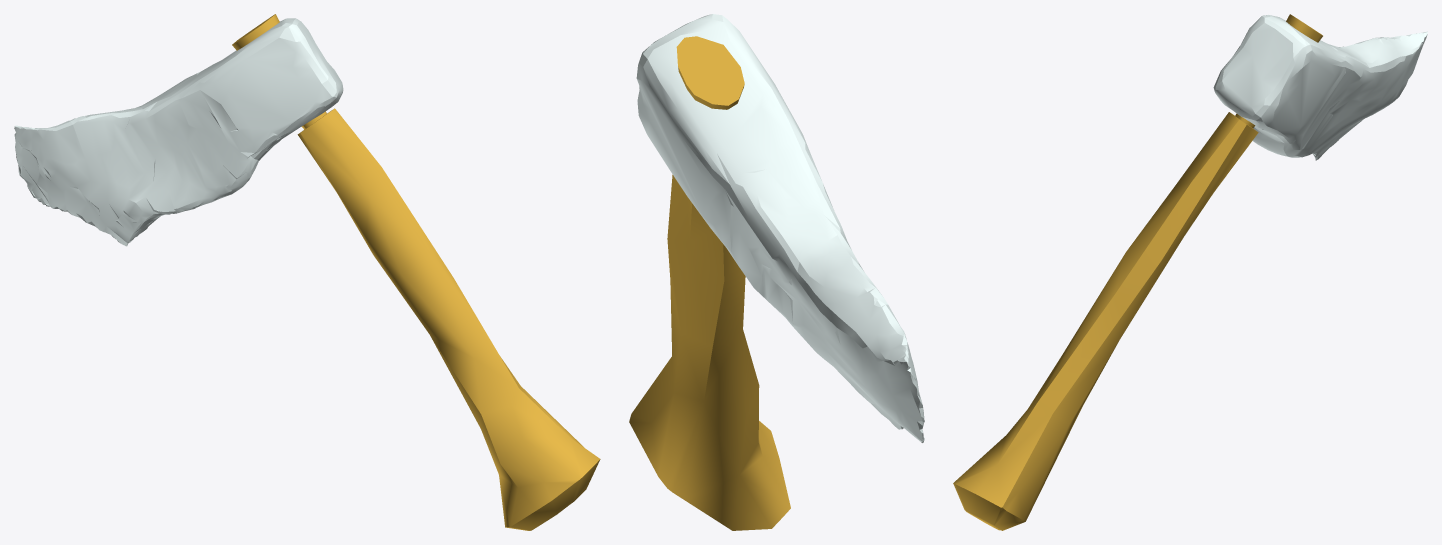
File: axe-iron-69.glb
3 views of the same model, side by side, from view 1: azimuth 30°, elevation 25°; view 2: azimuth 150°, elevation 25°; view 3: azimuth 270°, elevation 25° (orthographic). The views are drawn at different scales.
Visible parts, largest first — view 1: iron-axe-head, iron-axe; view 2: iron-axe-head, iron-axe; view 3: iron-axe, iron-axe-head.
Part boxes in pixels (x1=…): iron-axe-head: x1=14, y1=18, x2=343, y2=246; iron-axe: x1=232, y1=14, x2=600, y2=530; iron-axe-head: x1=636, y1=14, x2=924, y2=442; iron-axe: x1=629, y1=36, x2=790, y2=530; iron-axe: x1=953, y1=14, x2=1322, y2=530; iron-axe-head: x1=1213, y1=15, x2=1427, y2=160.
Size of the model in its own units: 0.7824 by 0.8641 by 0.8144.
